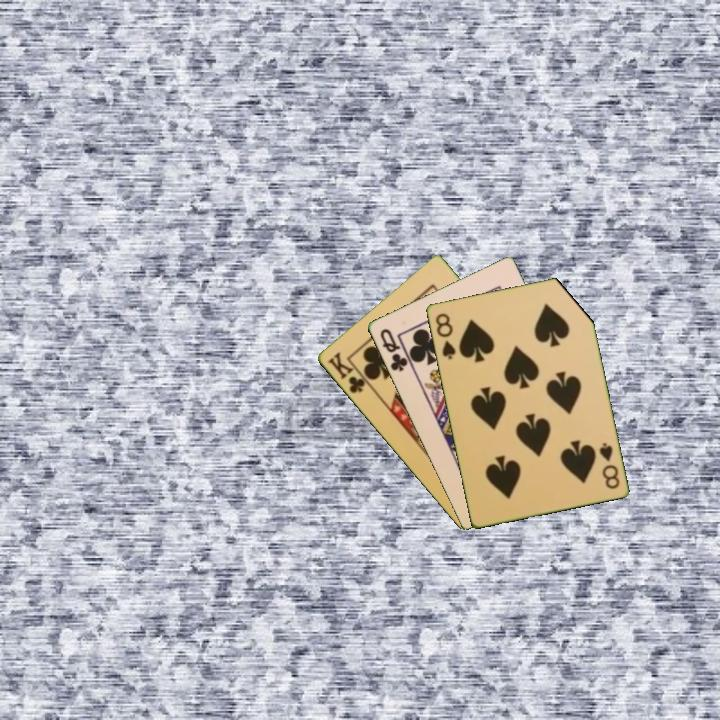8s: (595, 439, 622, 492), (432, 309, 458, 362)
Kc: (324, 349, 373, 396)
Qc: (376, 325, 414, 375)
